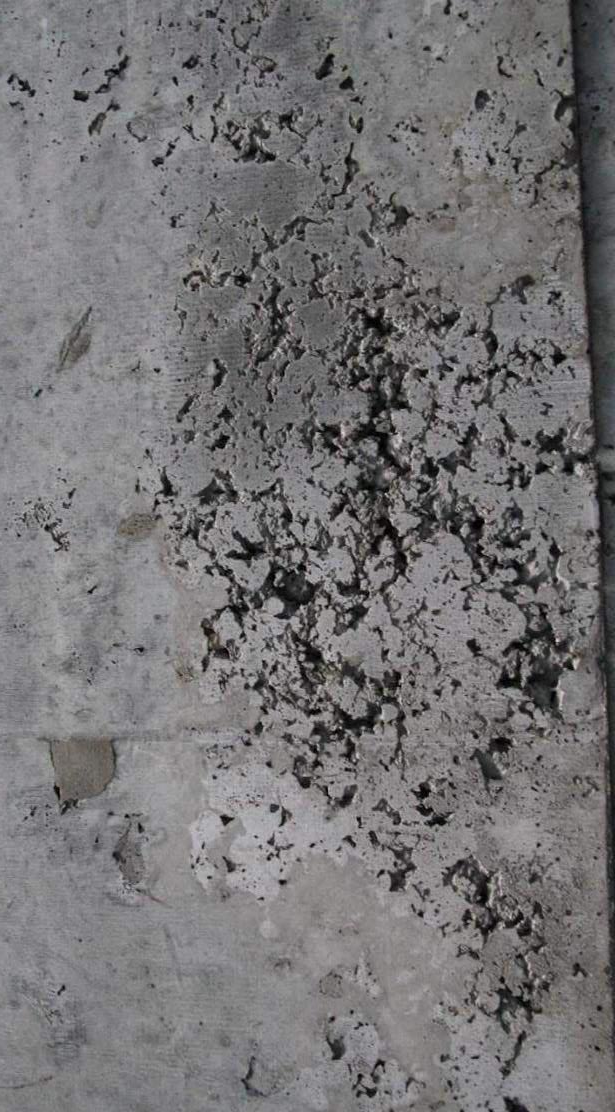Spalling: (1, 1, 615, 1112)
